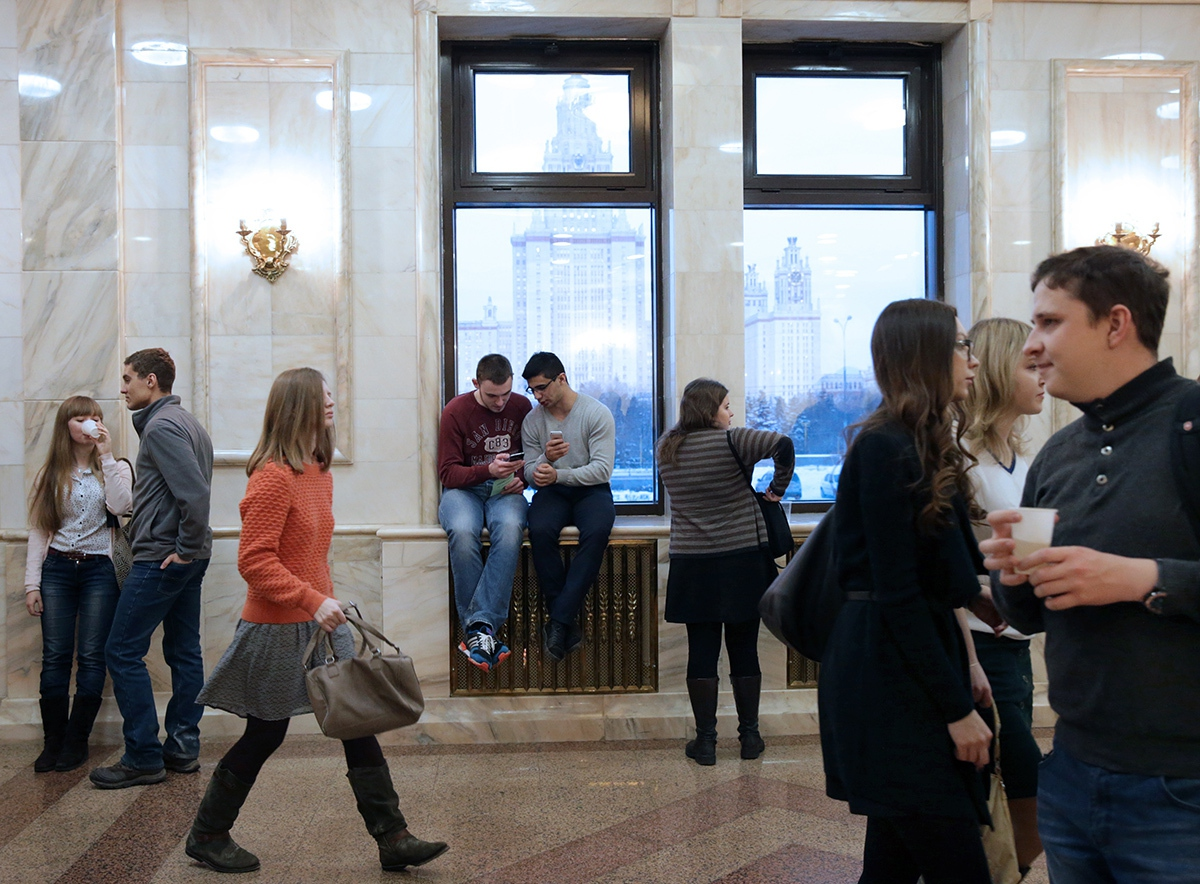students: (977, 242, 1191, 882), (186, 367, 452, 874), (759, 297, 981, 874), (89, 346, 216, 787), (657, 377, 794, 768), (959, 317, 1055, 873), (31, 393, 136, 772), (519, 349, 616, 663), (436, 353, 526, 674)
